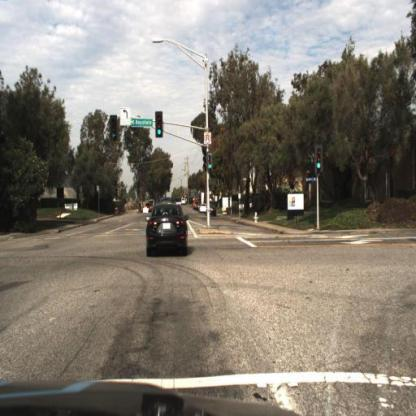car: (147, 200, 189, 260), (205, 201, 219, 219)
trafficLight-Green: (154, 111, 166, 140), (314, 147, 324, 176), (206, 152, 214, 174)
trafficLight-GreenLeft: (110, 115, 120, 142)
